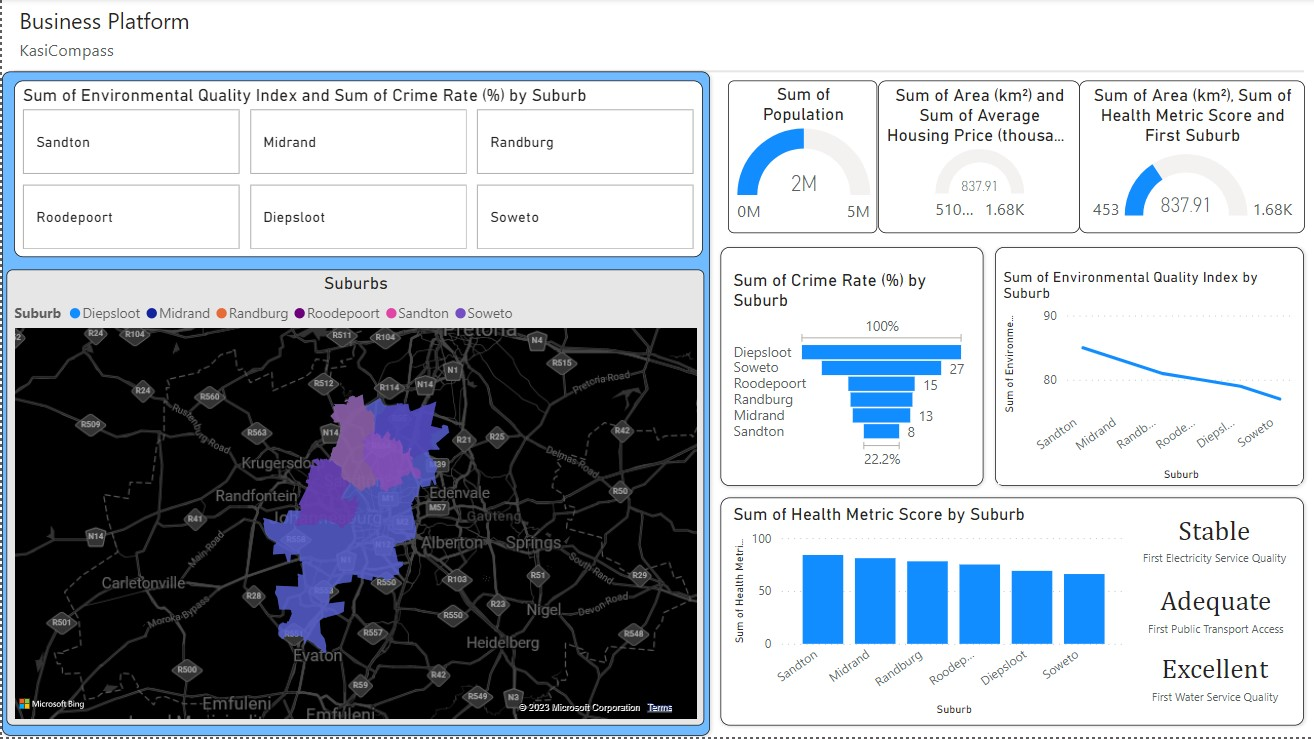

The dashboard page shown, as its layout file describes it:
{"tool":"powerbi","page":{"name":"Page 1","canvas":[1600,900],"ordinal":0},"visuals":[{"type":"shape","box":[12,58,1256,26],"z":0},{"type":"shape","box":[14.1,82.4,1025.9,816.5],"z":1000},{"type":"shape","box":[760,334.1,268.2,108.2],"z":2000},{"type":"card","fields":{"Values":["Min(KasiConnect.Electricity Service Quality)"]},"box":[767.1,341.2,254.1,91.8],"z":3000},{"type":"multiRowCard","fields":{"Values":["Sum(KasiConnect.Health Metric Score)"]},"box":[1250.5,12.8,335.9,49.3],"z":4000},{"type":"multiRowCard","fields":{"Values":["Sum(KasiConnect.Commercial Property Rate (thousand rand/m^2))"]},"box":[858,12.8,392.5,49.3],"z":5000},{"type":"multiRowCard","fields":{"Values":["Sum(KasiConnect.Crime Rate (%))"]},"box":[647,12,199,50],"z":6000},{"type":"multiRowCard","fields":{"Values":["Sum(KasiConnect.Area (km²))","KasiConnect.Public Transport Access"]},"box":[387,11,233.7,51.1],"z":7000},{"type":"textbox","box":[12,33,306,32],"z":8000},{"type":"textbox","box":[12,2,306,39],"z":9000},{"type":"gauge","fields":{"Y":["Sum(KasiConnect.Population)"]},"box":[266.5,715.6,239.1,173.4],"z":10000},{"type":"advancedSlicerVisual","fields":{"Values":["KasiConnect.Suburb"]},"box":[19.4,87.2,1011.1,153],"z":11000},{"type":"gauge","fields":{"Y":["Sum(KasiConnect.Area (km²))"]},"box":[20.1,715.6,241,173.4],"z":12000},{"type":"filledMap","title":"Suburbs","fields":{"Series":["KasiConnect.Suburb"],"Category":["KasiConnect.Suburb"]},"box":[20.1,244.6,730.2,467.3],"z":13000},{"type":"gauge","fields":{"Y":["Sum(KasiConnect.Environmental Quality Index)"]},"box":[517.2,714.8,242.1,174.3],"z":14000},{"type":"shape","box":[760,458.8,268.2,108.2],"z":15000},{"type":"shape","box":[762.4,588.2,265.9,108.2],"z":16000},{"type":"card","fields":{"Values":["Min(KasiConnect.Public Transport Access)"]},"box":[778.8,458.8,232.9,91.8],"z":17000},{"type":"card","fields":{"Values":["Min(KasiConnect.Water Service Quality)"]},"box":[771.8,595.3,249.4,94.1],"z":18000},{"type":"shape","box":[1053.8,83.3,532.7,325.4],"z":19000},{"type":"gauge","fields":{"Y":["Sum(KasiConnect.Commercial Property Rate (thousand rand/m^2))"]},"box":[763.2,703.1,267.3,186],"z":20000},{"type":"areaChart","fields":{"Y":["Sum(KasiConnect.Average Housing Price (thousand rand))"],"Category":["KasiConnect.Suburb"]},"box":[1060.6,87.6,520.3,304.9],"z":21000},{"type":"columnChart","fields":{"Category":["KasiConnect.Suburb"],"Y":["Sum(KasiConnect.Crime Rate (%))"]},"box":[1053.3,432.7,533.1,465.5],"z":22000}]}

Visuals, with their boxes in screenshot pixels (x1, y1, x2, y2), scaled from the page's 1600x900 canvas onto the 1314x739 screenshot:
shape: 10,48,1041,69
shape: 12,68,854,738
shape: 624,274,844,363
card - Min(KasiConnect.Electricity Service Quality): 630,280,839,356
multiRowCard - Sum(KasiConnect.Health Metric Score): 1027,11,1303,51
multiRowCard - Sum(KasiConnect.Commercial Property Rate (thousand rand/m^2)): 705,11,1027,51
multiRowCard - Sum(KasiConnect.Crime Rate (%)): 531,10,695,51
multiRowCard - Sum(KasiConnect.Area (km²)) x KasiConnect.Public Transport Access: 318,9,510,51
textbox: 10,27,261,53
textbox: 10,2,261,34
gauge - Sum(KasiConnect.Population): 219,588,415,730
advancedSlicerVisual - KasiConnect.Suburb: 16,72,846,197
gauge - Sum(KasiConnect.Area (km²)): 17,588,214,730
"Suburbs" filledMap: 17,201,616,585
gauge - Sum(KasiConnect.Environmental Quality Index): 425,587,624,730
shape: 624,377,844,466
shape: 626,483,844,572
card - Min(KasiConnect.Public Transport Access): 640,377,831,452
card - Min(KasiConnect.Water Service Quality): 634,489,839,566
shape: 865,68,1303,336
gauge - Sum(KasiConnect.Commercial Property Rate (thousand rand/m^2)): 627,577,846,730
areaChart - Sum(KasiConnect.Average Housing Price (thousand rand)) x KasiConnect.Suburb: 871,72,1298,322
columnChart - KasiConnect.Suburb x Sum(KasiConnect.Crime Rate (%)): 865,355,1303,738
